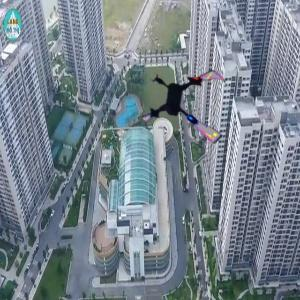drone: (142, 56, 237, 151)
